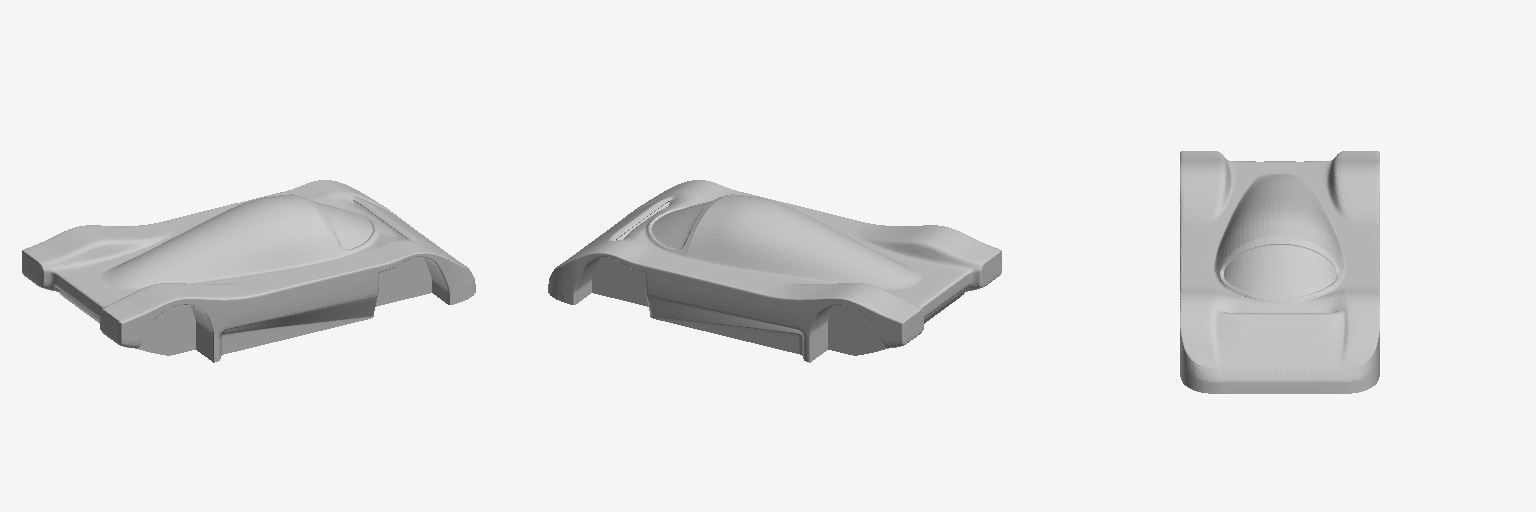
File: Car.obj
3 views of the same model, side by side, from view 1: azimuth 30°, elevation 25°; view 2: azimuth 150°, elevation 25°; view 3: azimuth 270°, elevation 25° (orthographic).
Visible parts, largest first — view 1: Car; view 2: Car; view 3: Car.
Boxes of the visible parts, x1=… form: Car: x1=22, y1=180, x2=475, y2=362; Car: x1=548, y1=180, x2=1001, y2=362; Car: x1=1180, y1=151, x2=1379, y2=393.
Size of the model in its own units: 2 by 0.499 by 0.9404.